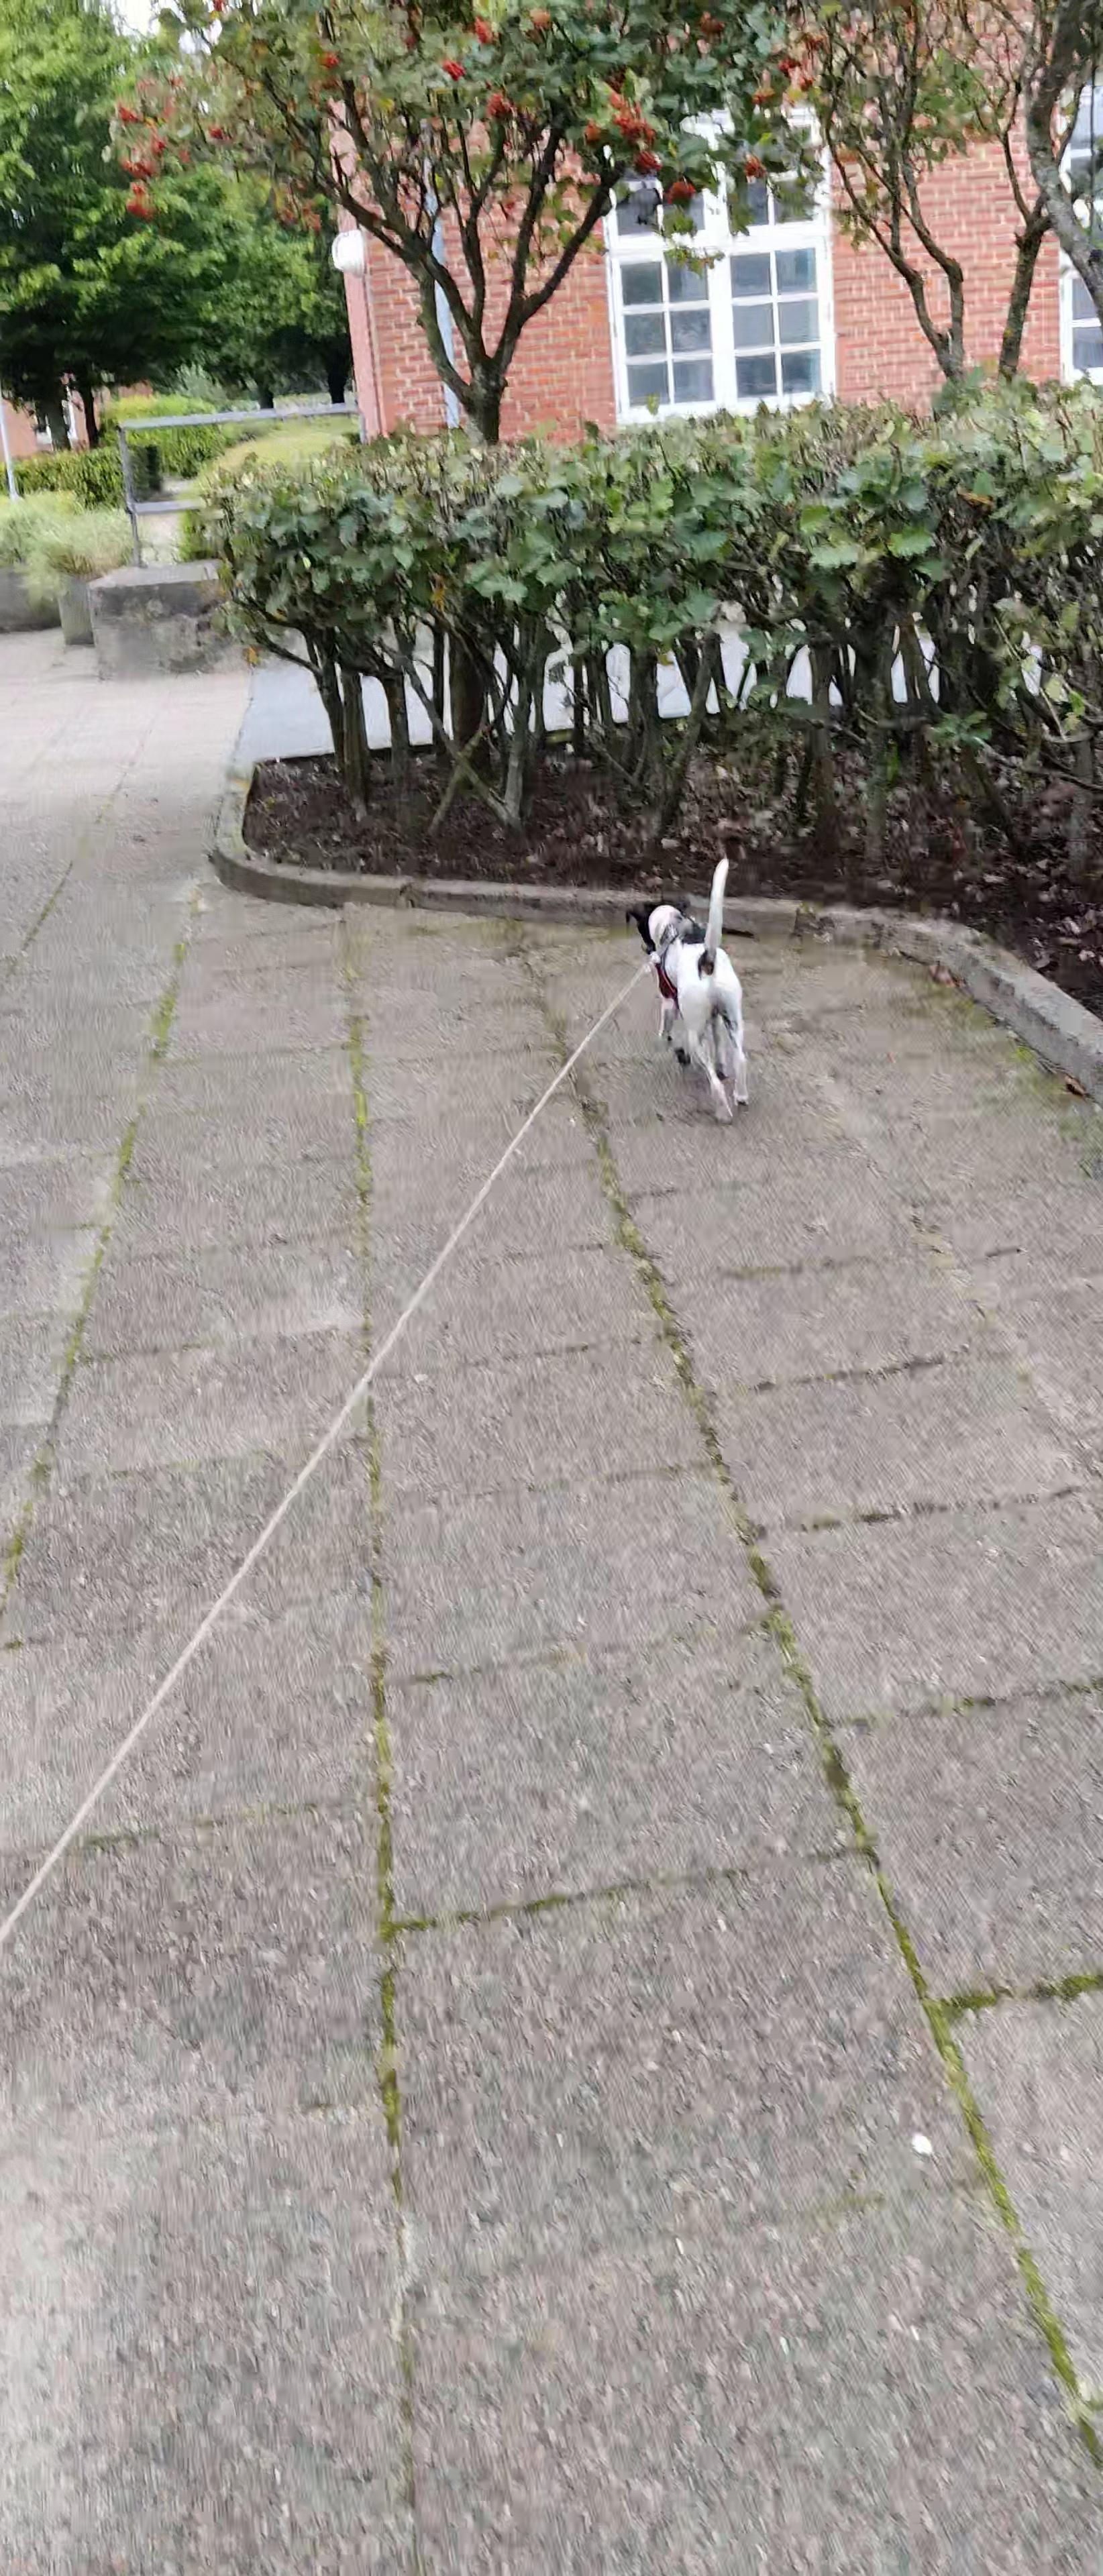Dog: (623, 851, 756, 1125)
